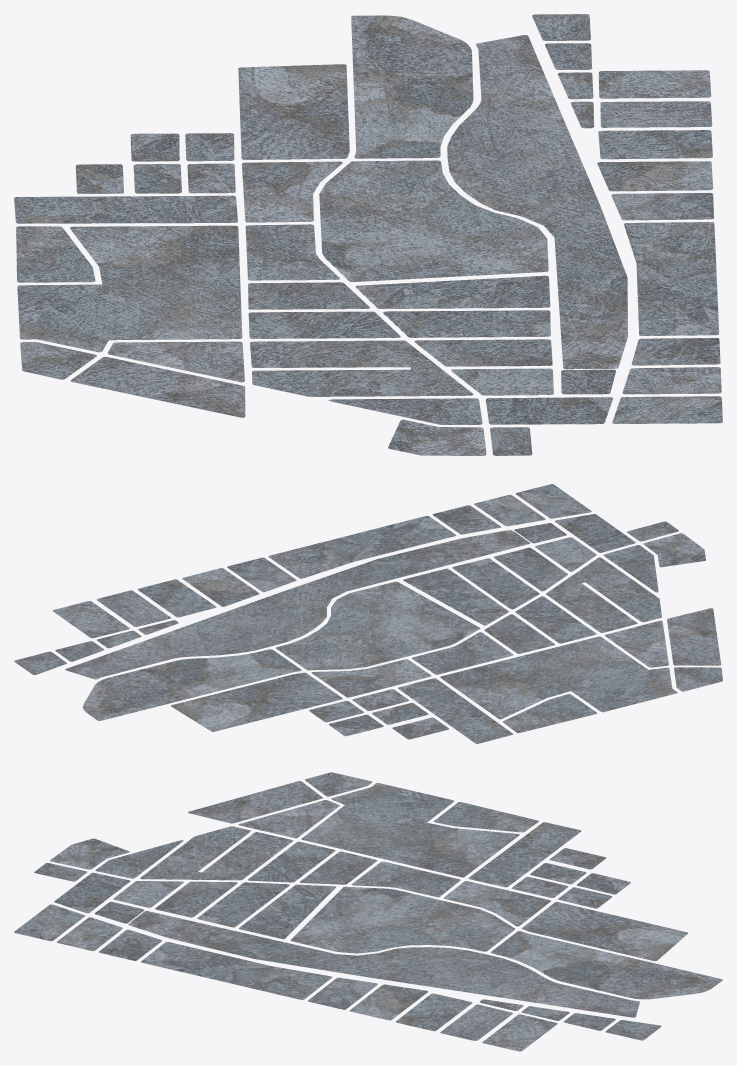
File: City_Sidewalks.fbx
3 views of the same model, one above another, from view 1: azimuth 30°, elevation 25°; view 2: azimuth 150°, elevation 25°; view 3: azimuth 270°, elevation 25° (orthographic). The views are drawn at different scales.
Visible parts, largest first — view 1: Sidewalks.001; view 2: Sidewalks.001; view 3: Sidewalks.001.
Part boxes in pixels (box(x1,y1,x2,y2)): Sidewalks.001: box(14, 14, 722, 455); Sidewalks.001: box(14, 484, 722, 743); Sidewalks.001: box(14, 772, 722, 1051).
Size of the model in its own units: 109178 by 15.02 by 117174.
